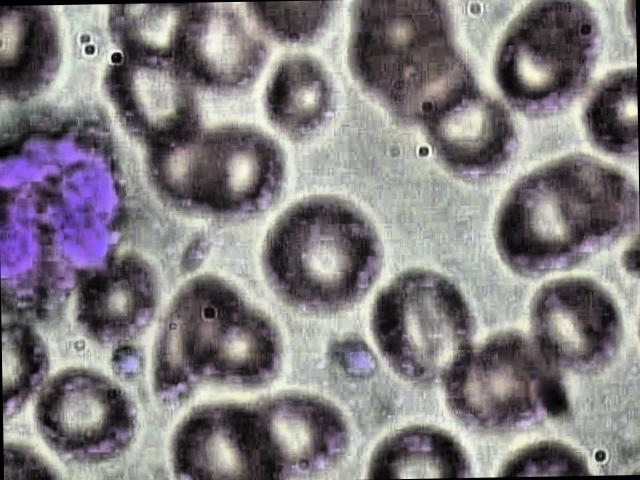Platelets: (332, 337, 382, 378), (108, 344, 148, 375)
